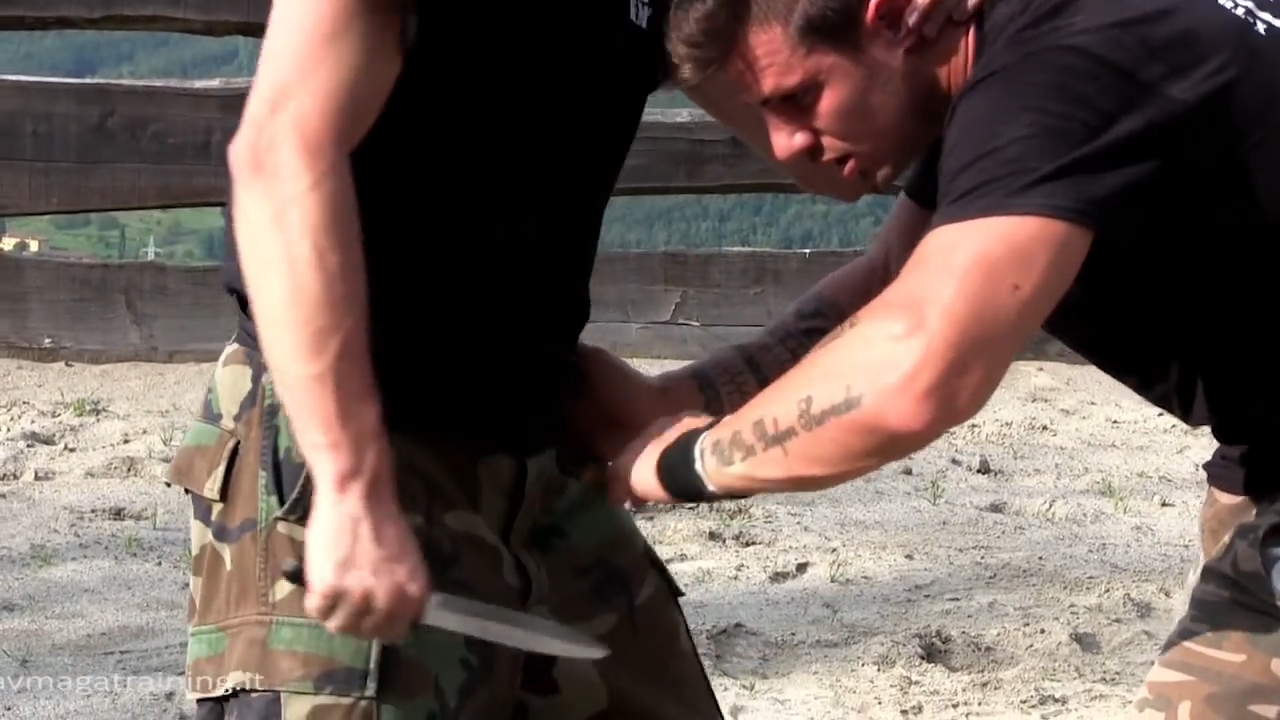knife: (270, 542, 624, 677)
